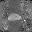people: (8, 13, 21, 21)
